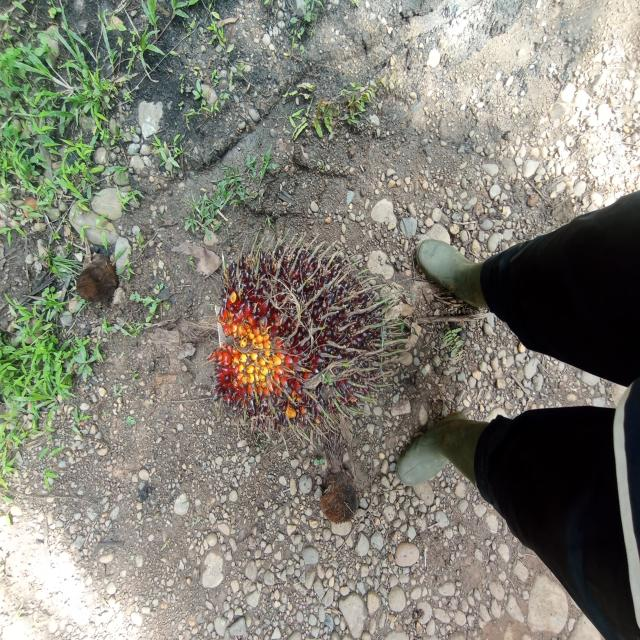fraksi 1: (204, 212, 397, 429)
